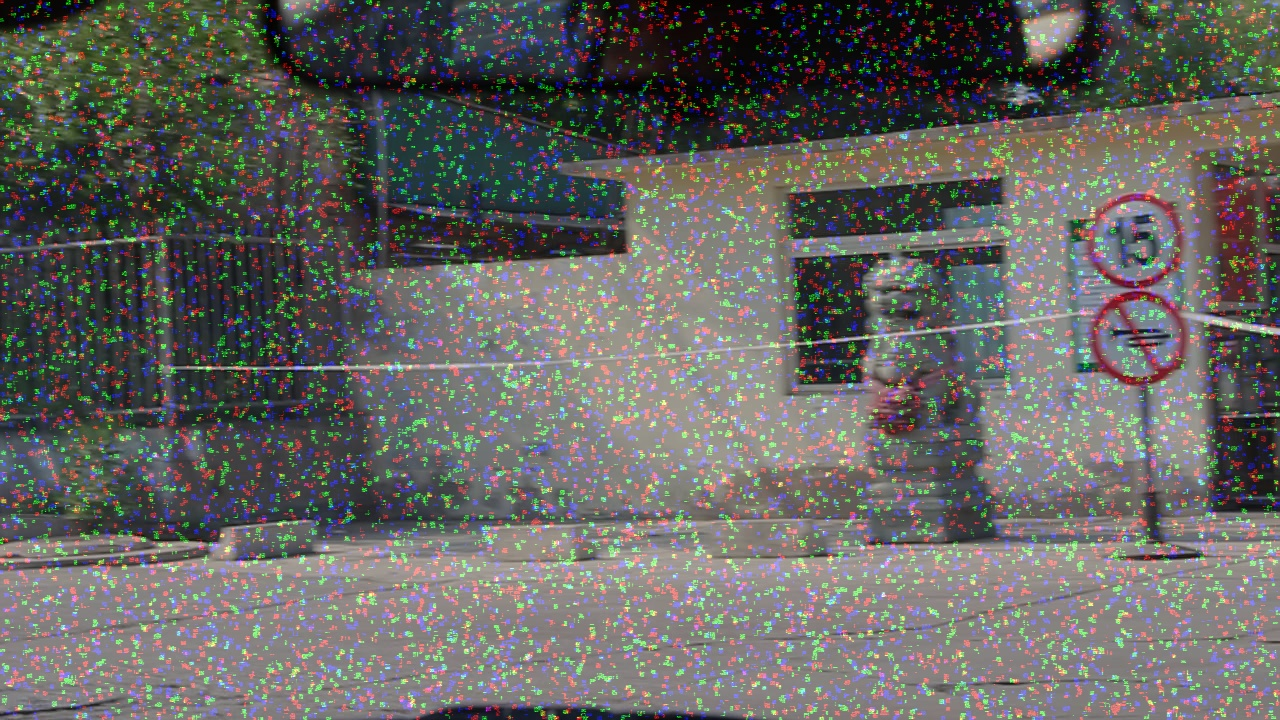Prohibitory Signs: (1085, 190, 1186, 290), (1089, 290, 1189, 386)
